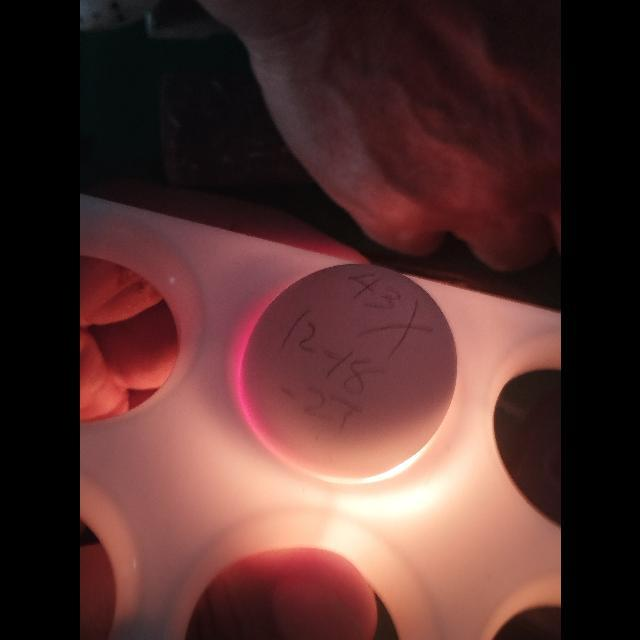Fertile: (234, 260, 461, 488)
